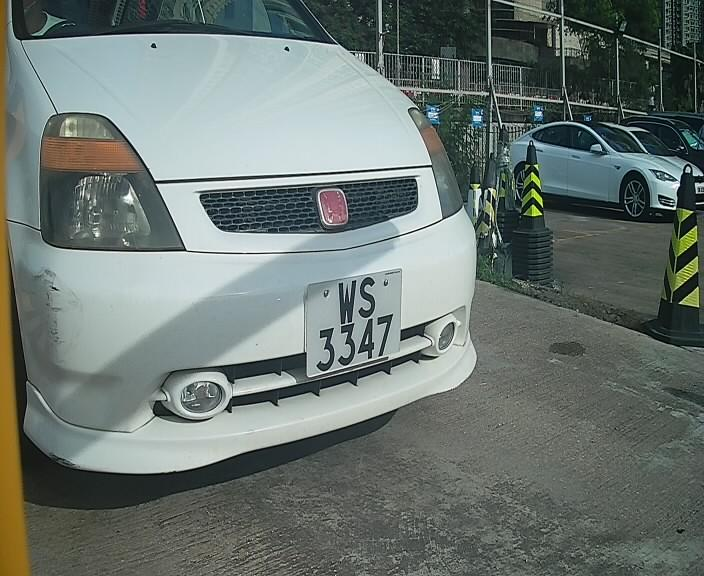License Plate: (302, 258, 415, 391)
